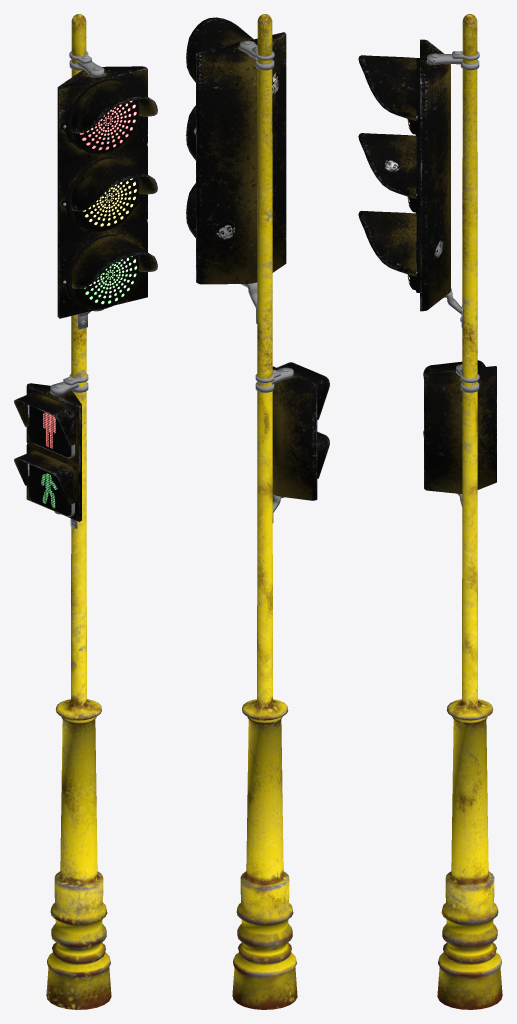
File: traffic_light__semaforo.glb
The picture shows the model from 3 angles, left to right: view 1: azimuth 30°, elevation 25°; view 2: azimuth 210°, elevation 25°; view 3: azimuth 270°, elevation 25°; orthographic projection.
Parts seen in each view (by area): view 1: SEMAFORO; view 2: SEMAFORO; view 3: SEMAFORO.
Boxes of the visible parts, x1,y1,x2,y2 form: SEMAFORO: [14, 14, 157, 1009]; SEMAFORO: [186, 14, 329, 1009]; SEMAFORO: [358, 14, 502, 1009].
Bounding box in the file's own units: 0.2348 × 2.15 × 0.2863.
1 material, 1 textured.
